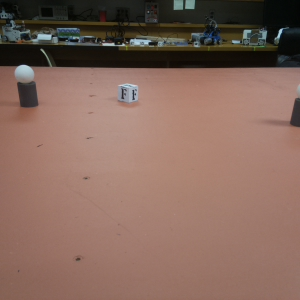blockF: (118, 82, 139, 104)
obstacle: (13, 65, 40, 108)
